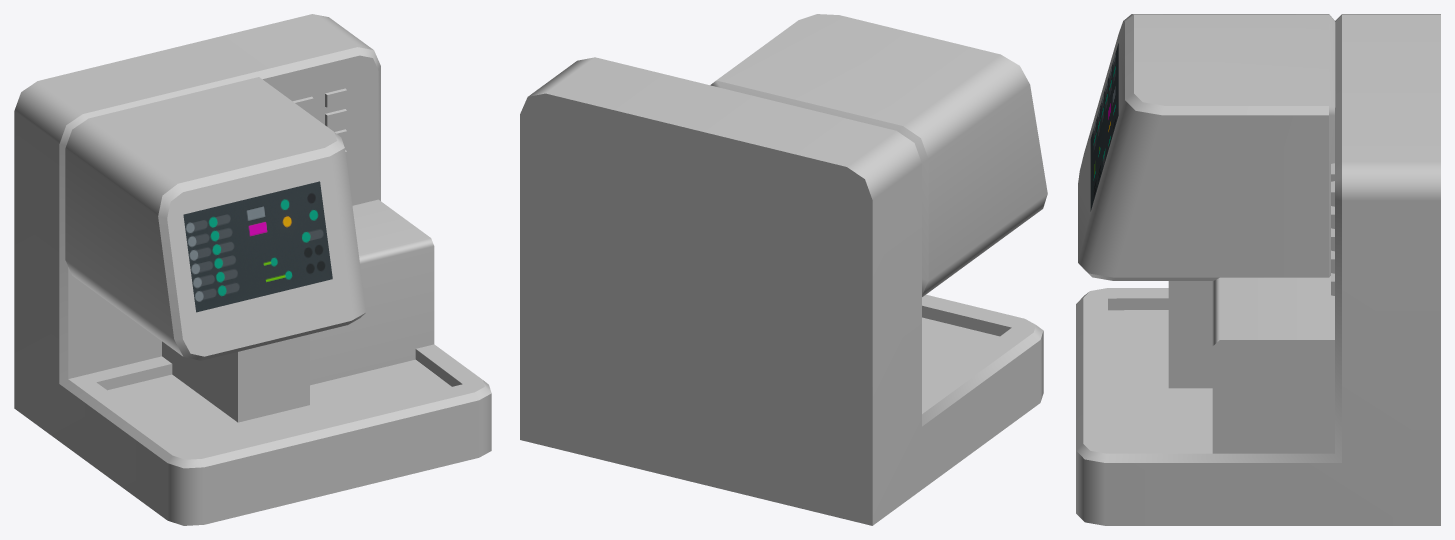
File: Immunoanalyzer_01.fbx
The picture shows the model from 3 angles, left to right: view 1: azimuth 30°, elevation 25°; view 2: azimuth 150°, elevation 25°; view 3: azimuth 270°, elevation 25°; orthographic projection. The views are drawn at different scales.
Parts seen in each view (by area): view 1: Immunoanalyzer_01; view 2: Immunoanalyzer_01; view 3: Immunoanalyzer_01.
Part boxes in pixels (left/top/right/bottom): Immunoanalyzer_01: left=14, top=14, right=491, bottom=525; Immunoanalyzer_01: left=520, top=14, right=1047, bottom=525; Immunoanalyzer_01: left=1076, top=14, right=1440, bottom=525.
Size of the model in its own units: 69 by 62 by 66.
